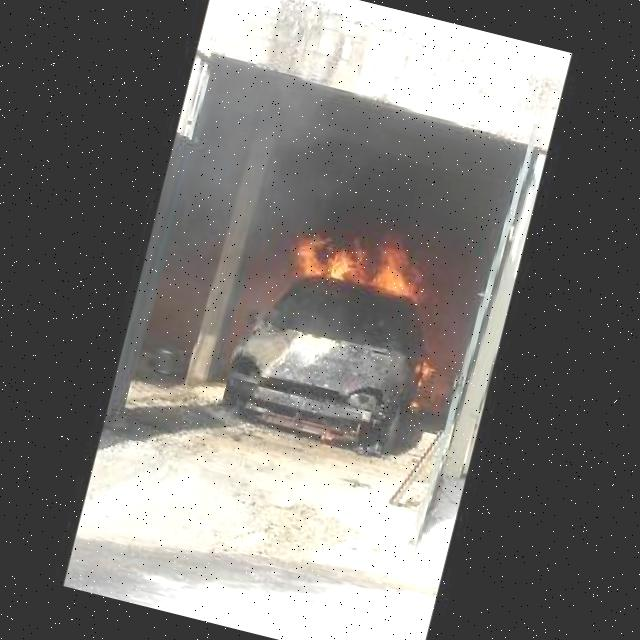fire: (287, 207, 437, 305), (412, 356, 444, 388)
